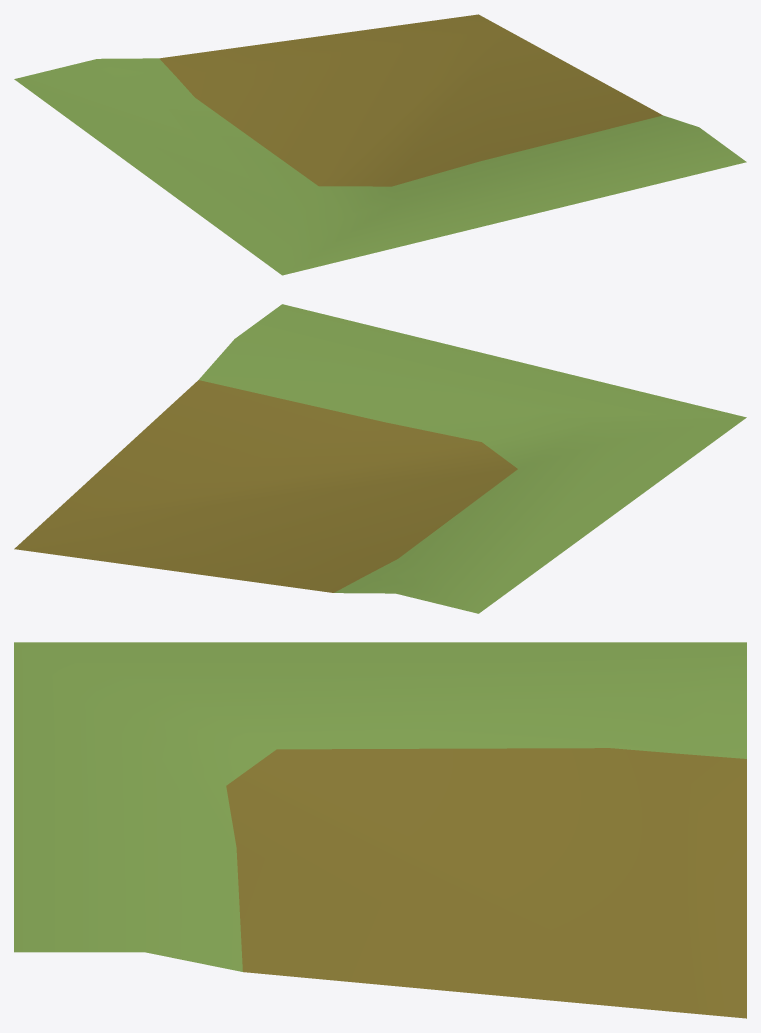
File: Water_Corner.glb
3 renders of one model, top to bottom at view 1: azimuth 30°, elevation 25°; view 2: azimuth 150°, elevation 25°; view 3: azimuth 270°, elevation 25°, orthographic. The views are drawn at different scales.
Visible parts, largest first — view 1: 1_Water_Corner-col; view 2: 1_Water_Corner-col; view 3: 1_Water_Corner-col.
Part boxes in pixels (left/top/right/bottom): 1_Water_Corner-col: left=14, top=14, right=746, bottom=275; 1_Water_Corner-col: left=14, top=304, right=746, bottom=613; 1_Water_Corner-col: left=14, top=642, right=746, bottom=1018.
Size of the model in its own units: 1 by 0.1 by 1.
